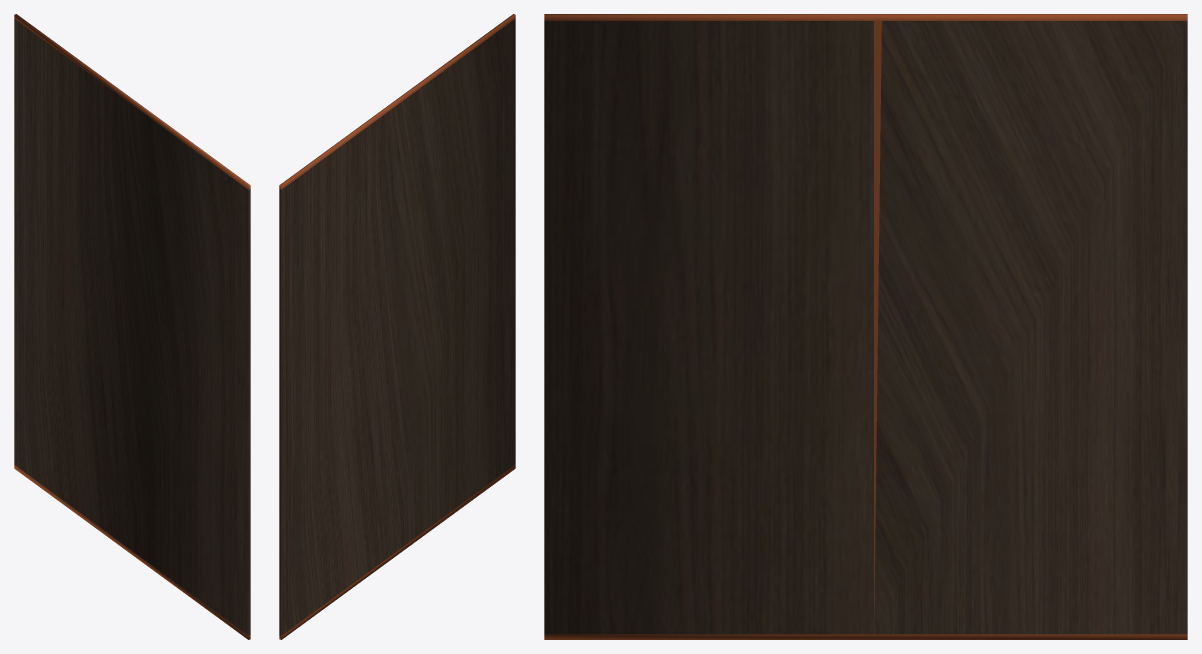
File: ABC-56.obj
3 renders of one model, left to right at view 1: azimuth 30°, elevation 25°; view 2: azimuth 150°, elevation 25°; view 3: azimuth 270°, elevation 25°, orthographic. The views are drawn at different scales.
Parts seen in each view (by area): view 1: Rectangle001; view 2: Rectangle001; view 3: Rectangle001.
Part boxes in pixels (left/top/right/bottom): Rectangle001: left=14, top=14, right=250, bottom=639; Rectangle001: left=279, top=14, right=515, bottom=639; Rectangle001: left=544, top=14, right=1187, bottom=639.
Bounding box in the file's own units: 0.15 × 30 × 28.
